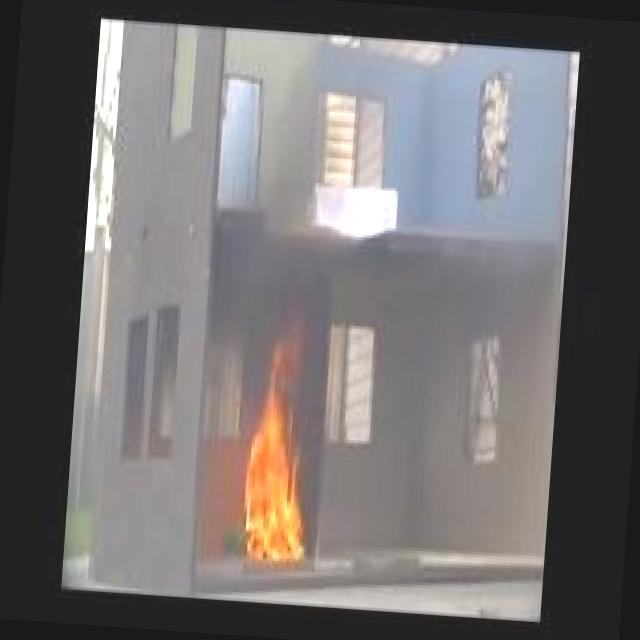fire: (215, 357, 322, 582)
